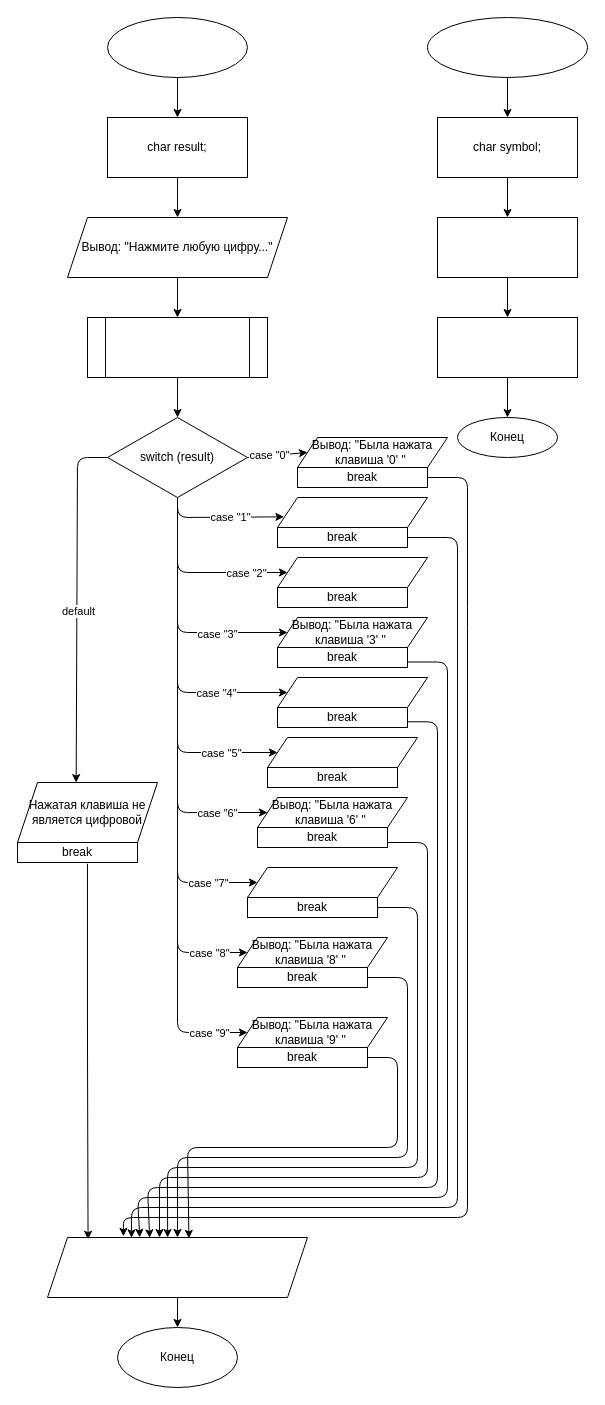
The diagram is 605 pixels wide and 1405 high, and some of its shapes have lost their labels. Each missing label, with the box of its shape:
result = homework();: (86, 316, 268, 378)
return symbol;: (436, 316, 578, 378)
symbol = _getch();: (436, 216, 578, 278)
Вывод: "Была нажата клавиша '1' ": (276, 496, 428, 528)
Вывод: "Была нажата клавиша '2' ": (276, 556, 428, 588)
Вывод: "Была нажата клавиша '4' ": (276, 676, 428, 708)
Вывод: "Была нажата клавиша '5' ": (266, 736, 418, 768)
Вывод: "Была нажата клавиша '7' ": (246, 866, 398, 898)
Вывод: "Нажмите любую клавишу для выхода" _getch();: (46, 1236, 308, 1298)
Начало homework(): (426, 16, 588, 78)
Начало main(): (106, 16, 248, 78)
